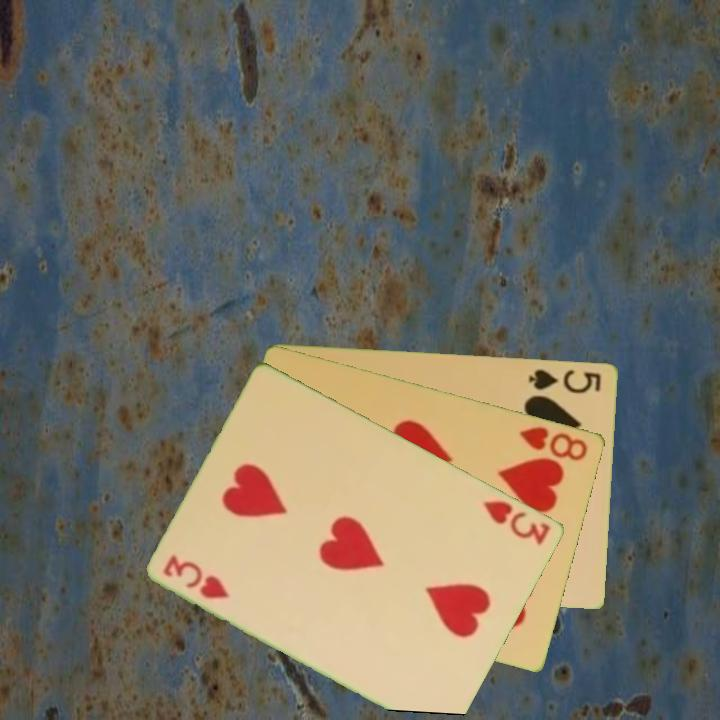3h: (480, 496, 554, 548), (160, 551, 233, 602)
5s: (525, 365, 605, 396)
8h: (516, 422, 591, 464)
